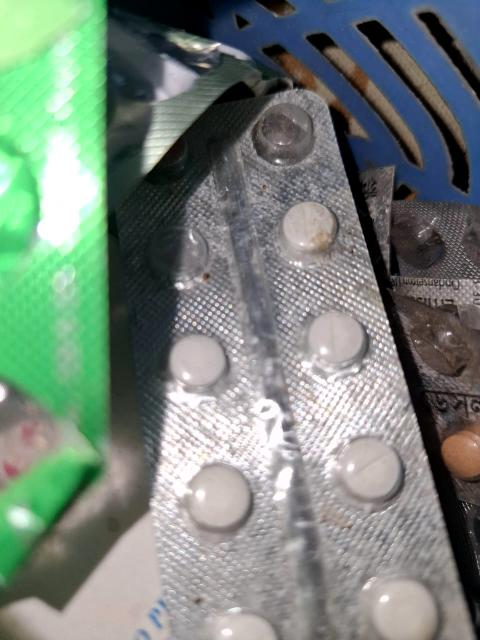medicine: (43, 60, 479, 640)
